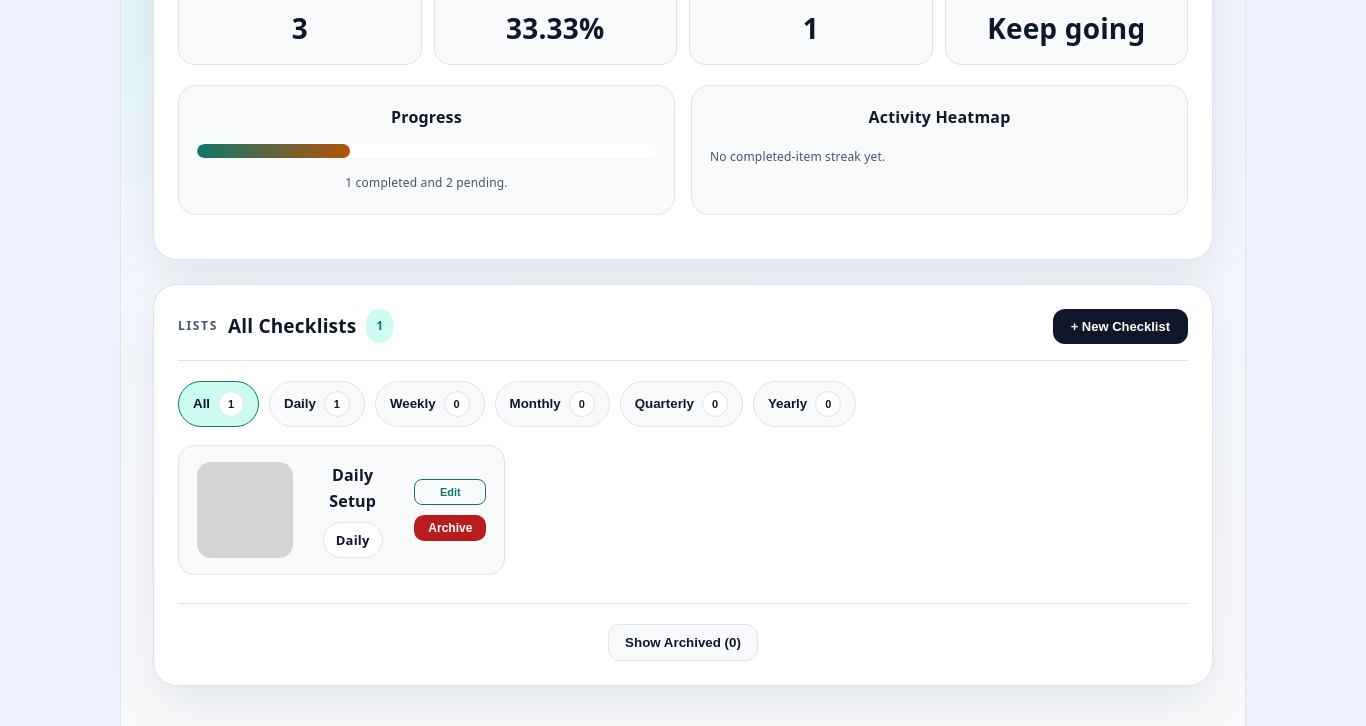
Dashboard › toggles selected item state off when clicked twice
The width and height of the screenshot is (1366, 726).
(page scrolled)
Click the text "Daily Setup". click: (353, 488)
box: left=329, top=464, right=376, bottom=512
(page scrolled)
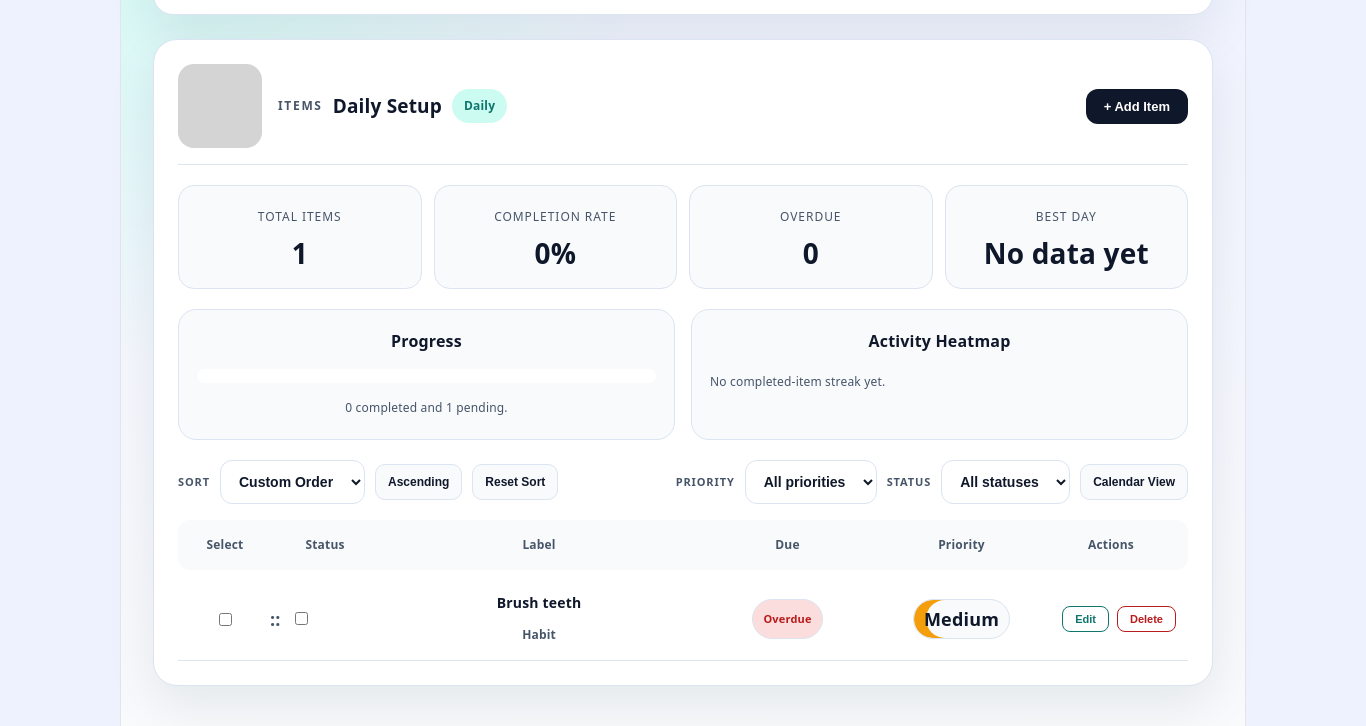
Check: the text "Brush teeth" is shown, box left=497, top=593, right=581, bottom=612
Click the 1st checkbox. click: (226, 619)
box: left=219, top=613, right=232, bottom=626
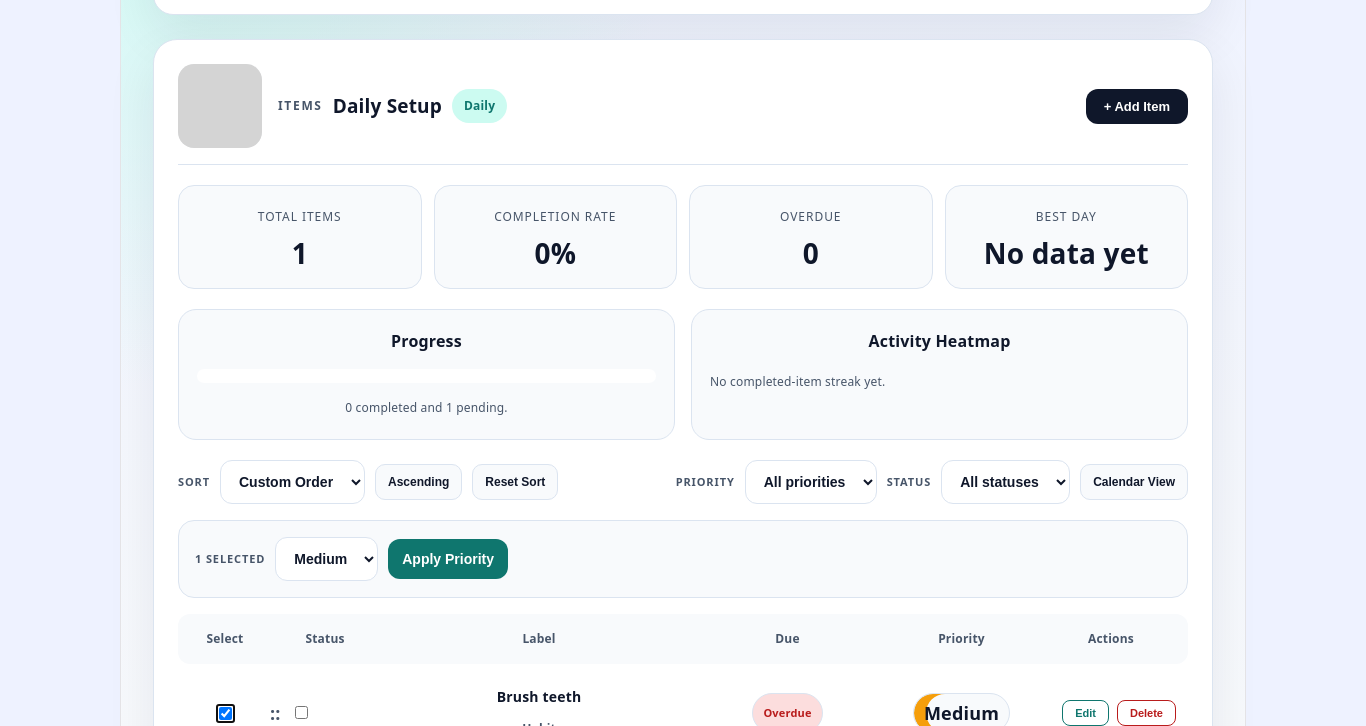
Check: the text "1 selected" is shown, box left=195, top=551, right=265, bottom=566
Click the 1st checkbox. click: (226, 713)
box: left=219, top=707, right=232, bottom=720
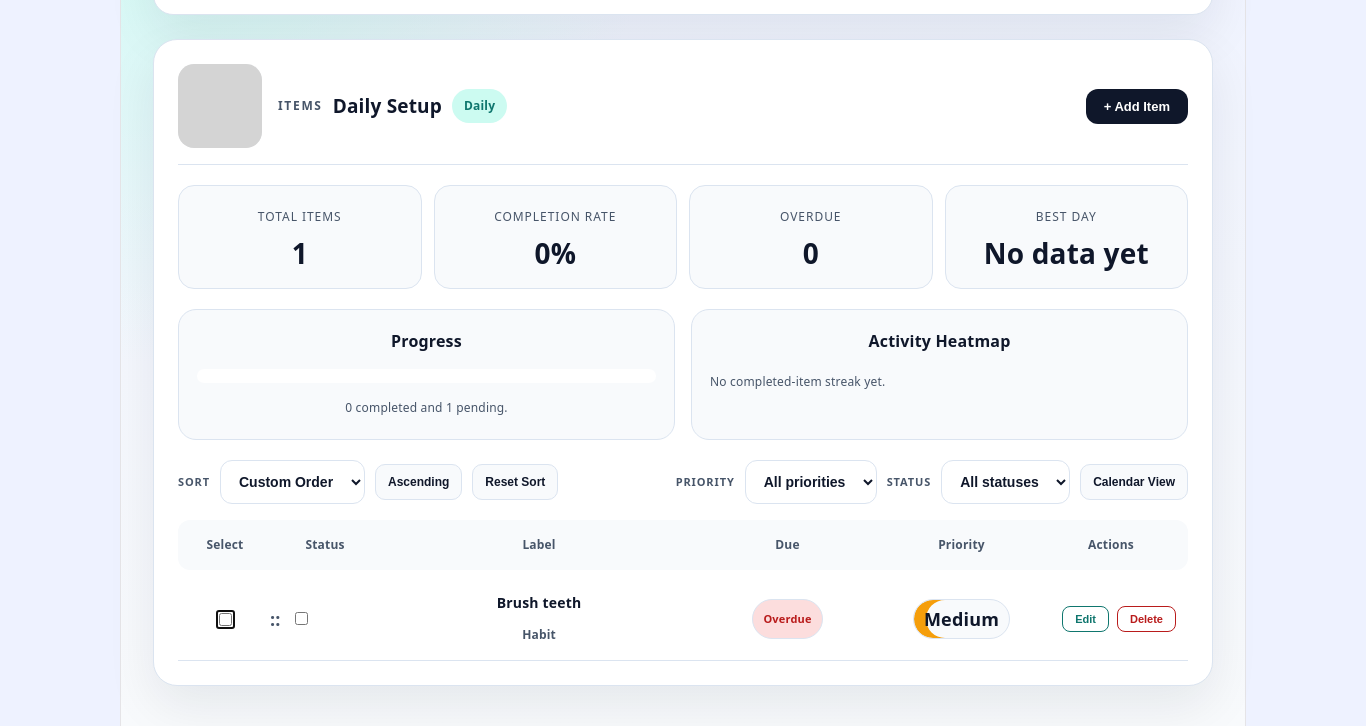
Check: the text "1 selected" is gone
